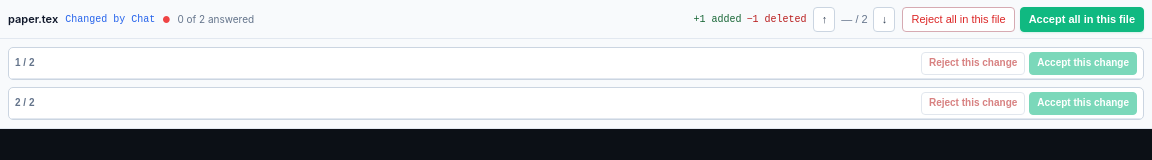
TypesetExternalChangeReview › keeps expanded navigation available without any editor anchors
Click the button named "Previous change" at (824,19), box left=814, top=6, right=836, bottom=32
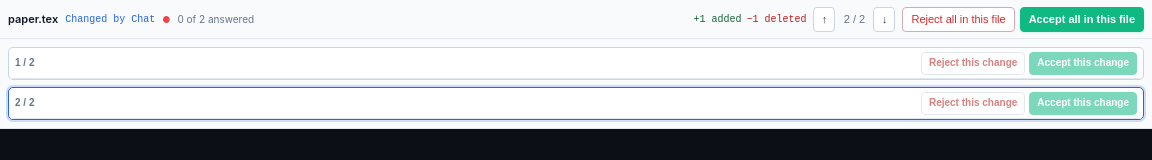
Result: the element with class "typeset-external-review-nav" shows "2 / 2" at left=844, top=12, right=865, bottom=24
